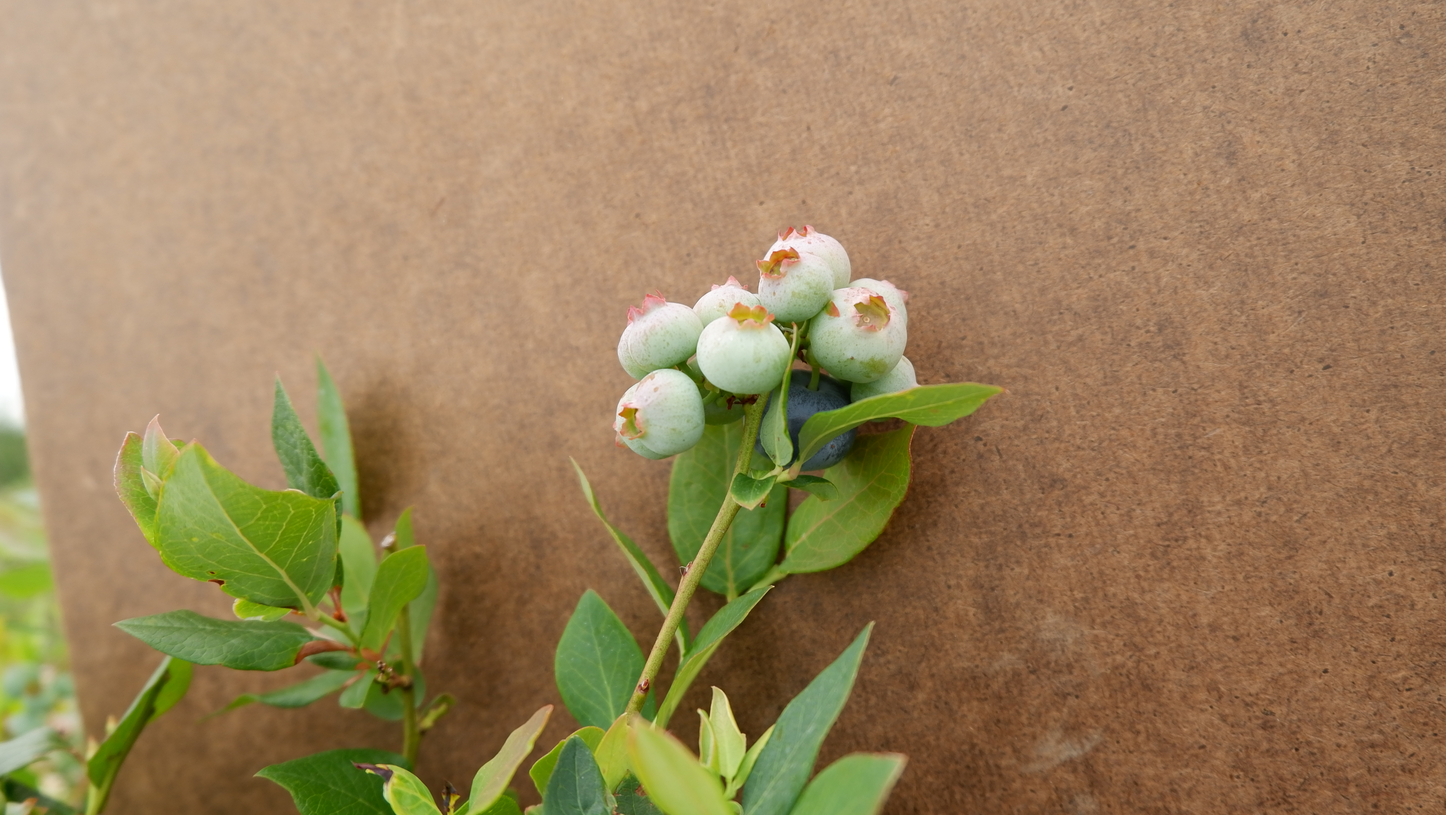Immature: (809, 286, 906, 382), (696, 303, 791, 394), (618, 368, 705, 457), (628, 289, 704, 372), (763, 226, 851, 292), (757, 247, 834, 322), (850, 356, 921, 423), (680, 356, 746, 425), (613, 382, 670, 460), (693, 275, 763, 328), (849, 279, 909, 324), (618, 312, 652, 379)
Mature: (753, 368, 859, 471)
